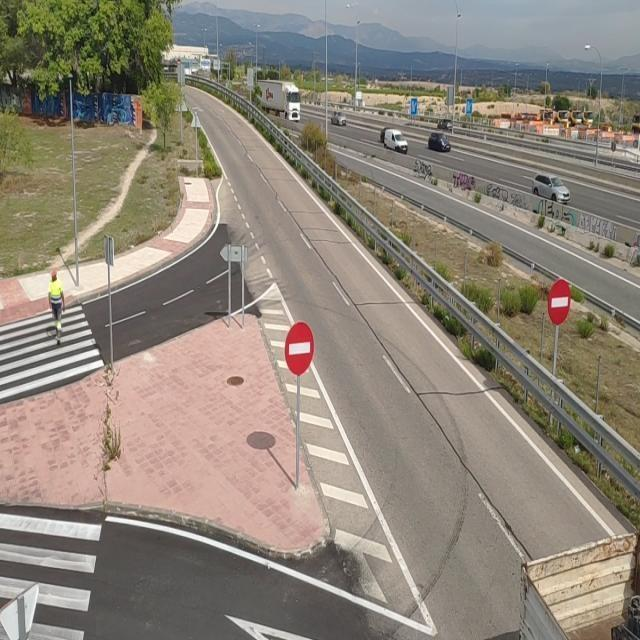Car: (532, 172, 570, 204), (428, 132, 451, 152), (380, 126, 392, 144), (331, 112, 346, 126), (437, 119, 453, 131)
Truck: (255, 78, 302, 122)
Van: (384, 128, 408, 154)
